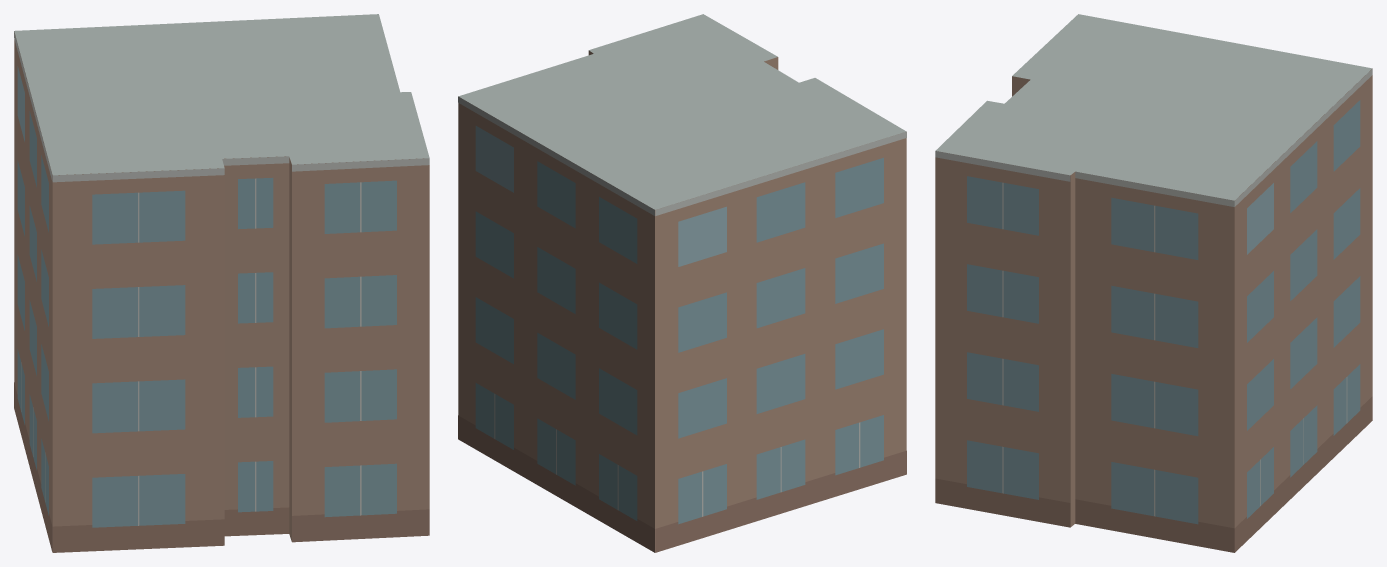
File: survey-upis-32811155.glb
3 views of the same model, side by side, from view 1: azimuth 30°, elevation 25°; view 2: azimuth 150°, elevation 25°; view 3: azimuth 270°, elevation 25° (orthographic). The views are drawn at different scales.
Visible parts, largest first — view 1: survey-upis-32811155.tmp; view 2: survey-upis-32811155.tmp; view 3: survey-upis-32811155.tmp.
Boxes of the visible parts, left/top/right/bottom form: survey-upis-32811155.tmp: left=14, top=14, right=429, bottom=552; survey-upis-32811155.tmp: left=458, top=14, right=906, bottom=552; survey-upis-32811155.tmp: left=935, top=14, right=1372, bottom=552.
Bounding box in the file's own units: 15.01 × 13.2 × 14.86.
